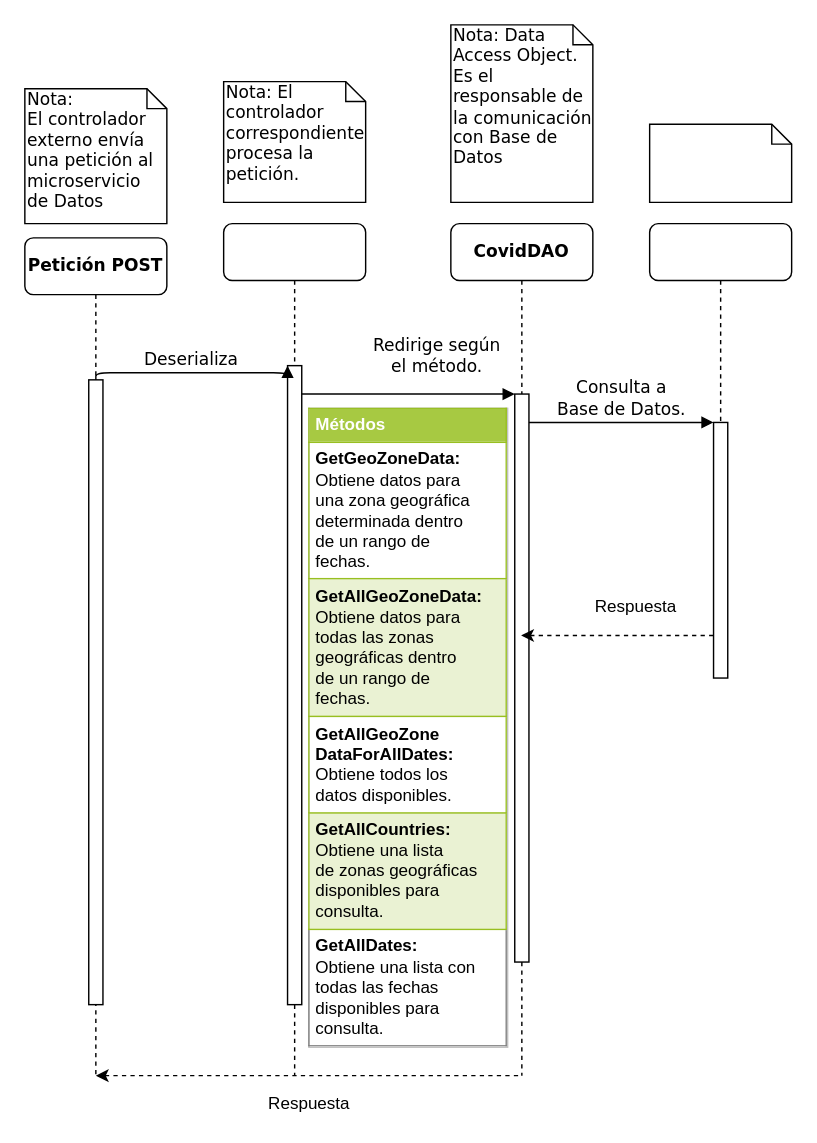
This 817x1143 diagram has some shape labels left out. Here are the shapes that lost their labels. From the top down, the centre of each, then its label:
At point 720,162: "Nota: Base de datos PostgreSql".
At point 720,450: "Base de Datos".
At point 294,649: "CovidDataBase Controller".
